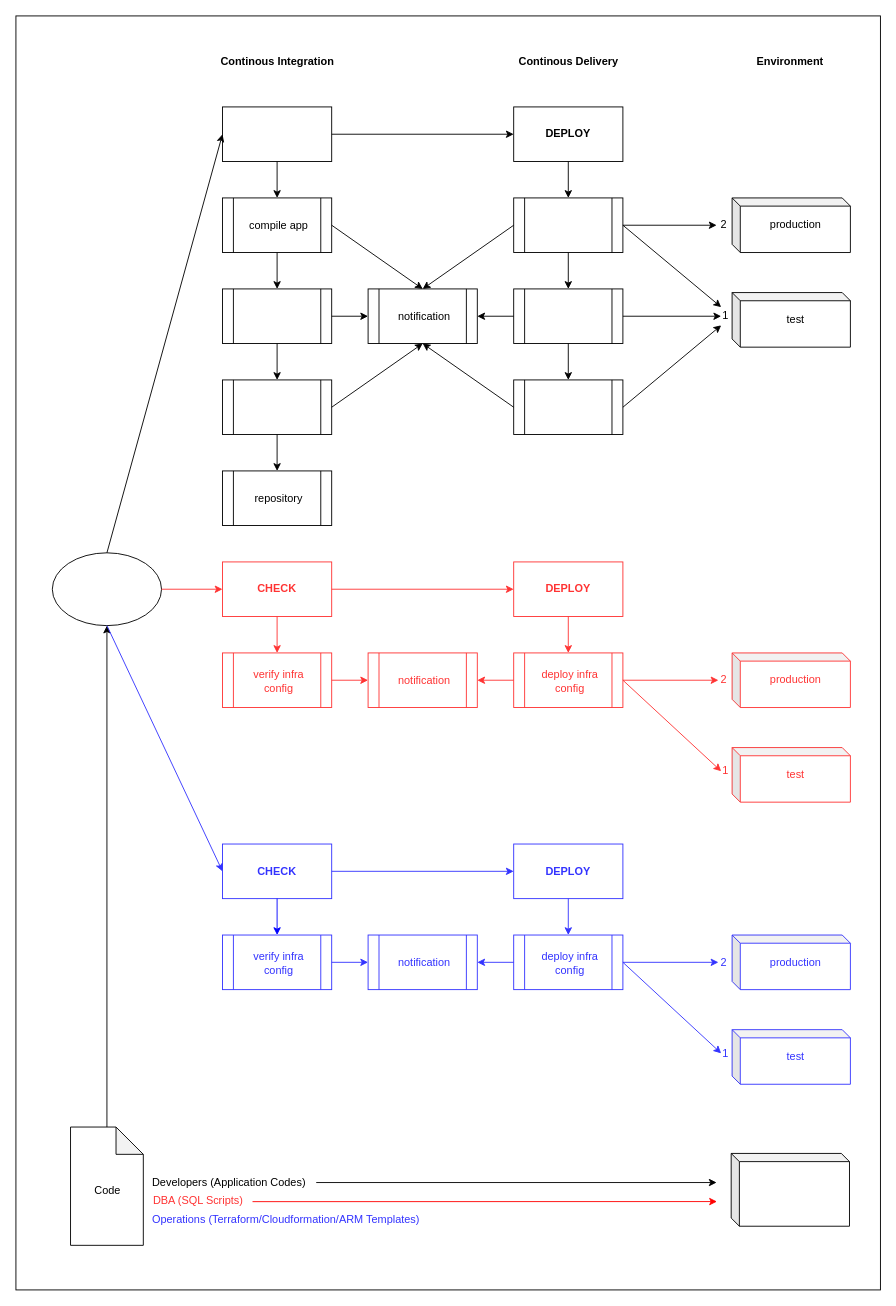
This 896x1306 diagram has some shape labels left out. The centre of each missing label's shape, as x and y in pixels:
"BUILD" goes at (277,134).
"deploy app" goes at (568,225).
"integration test" goes at (568,316).
"local development" goes at (789,1189).
"SCM" goes at (106,589).
"static code analysis" goes at (277,407).
"ua/qa test" goes at (568,407).
"unittest" goes at (277,316).
